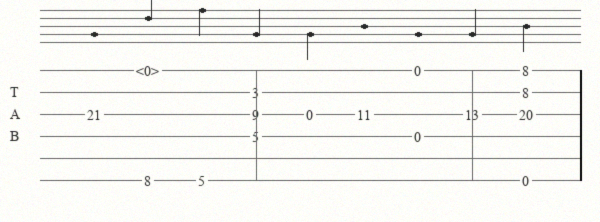0: (306, 107, 317, 121), (414, 129, 425, 143), (414, 63, 425, 77), (522, 173, 533, 187)
11: (357, 107, 375, 121)
13: (465, 107, 483, 121)
20: (519, 107, 537, 121)
21: (87, 107, 105, 121)
3: (252, 85, 263, 99)
5: (198, 173, 209, 187), (252, 129, 263, 143)
8: (144, 173, 155, 187), (522, 85, 533, 99), (522, 63, 533, 77)
9: (252, 107, 263, 121)
harmonic: (136, 63, 163, 77)
